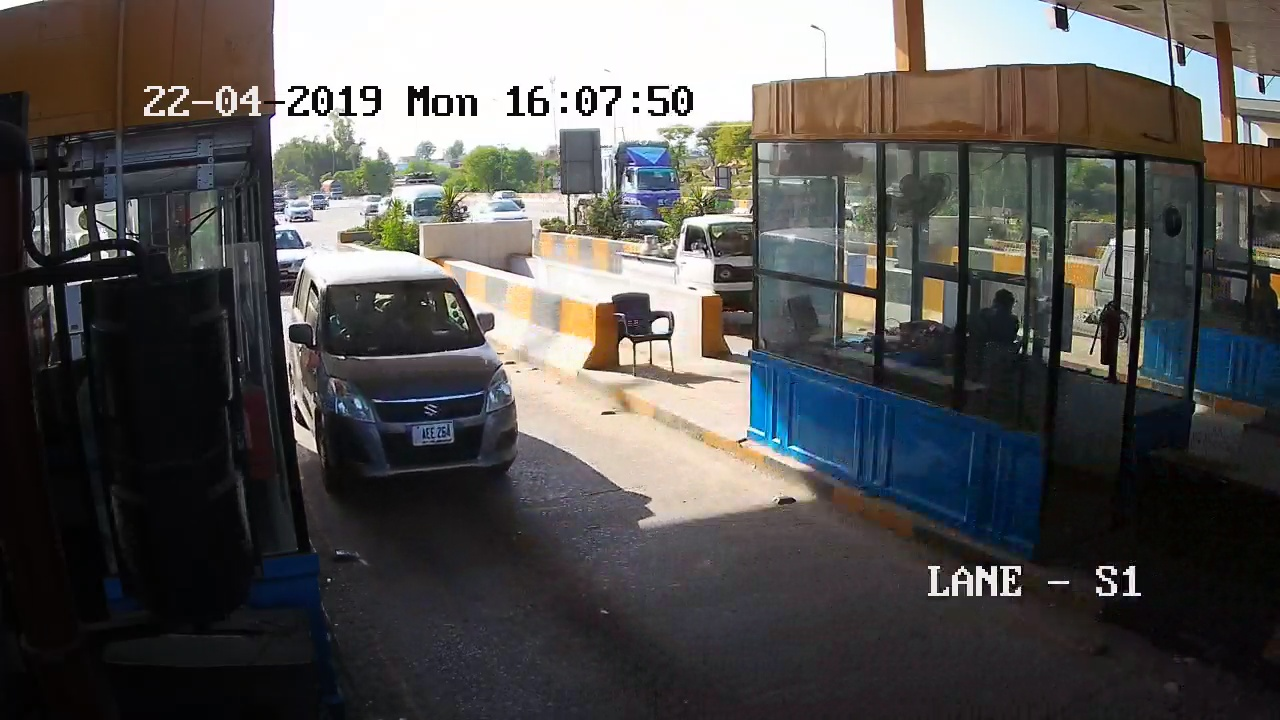Number Plate (Car): (412, 423, 455, 445)
